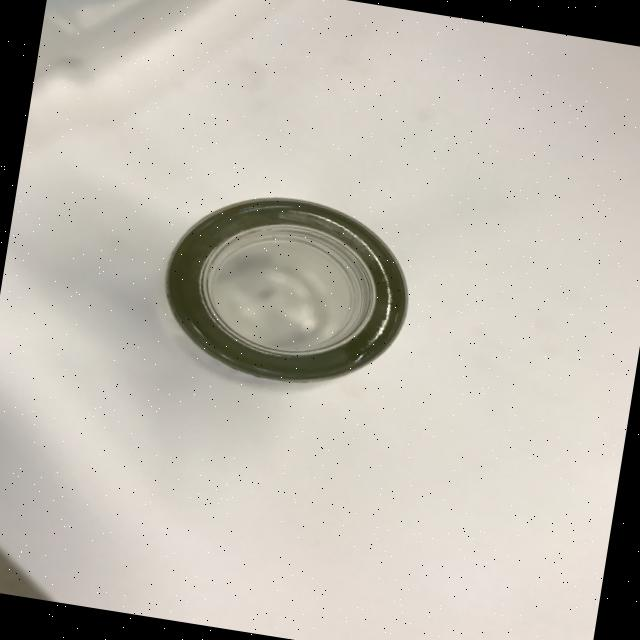glass: (152, 179, 422, 400)
